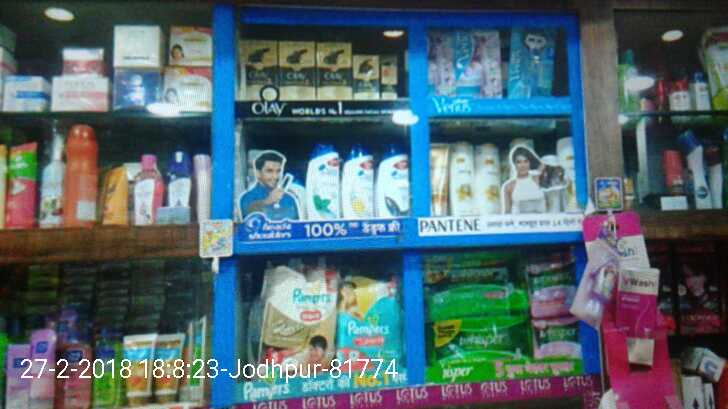venus: (440, 32, 504, 98), (509, 30, 556, 97)
